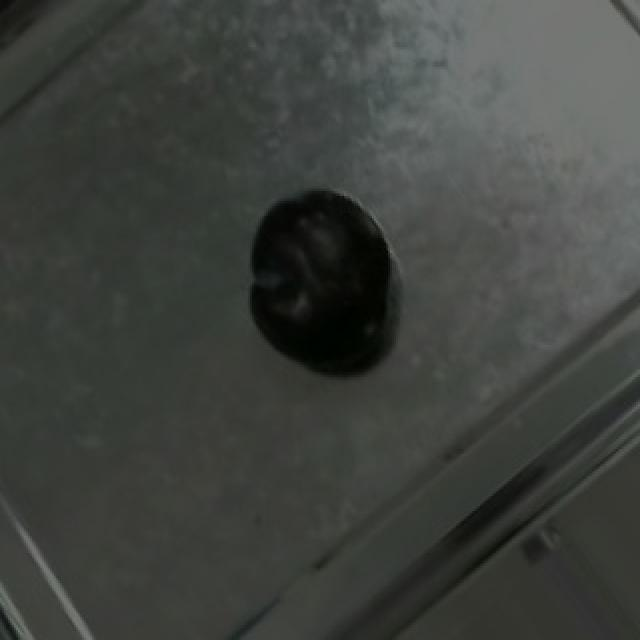Fruit: (230, 174, 410, 392)
